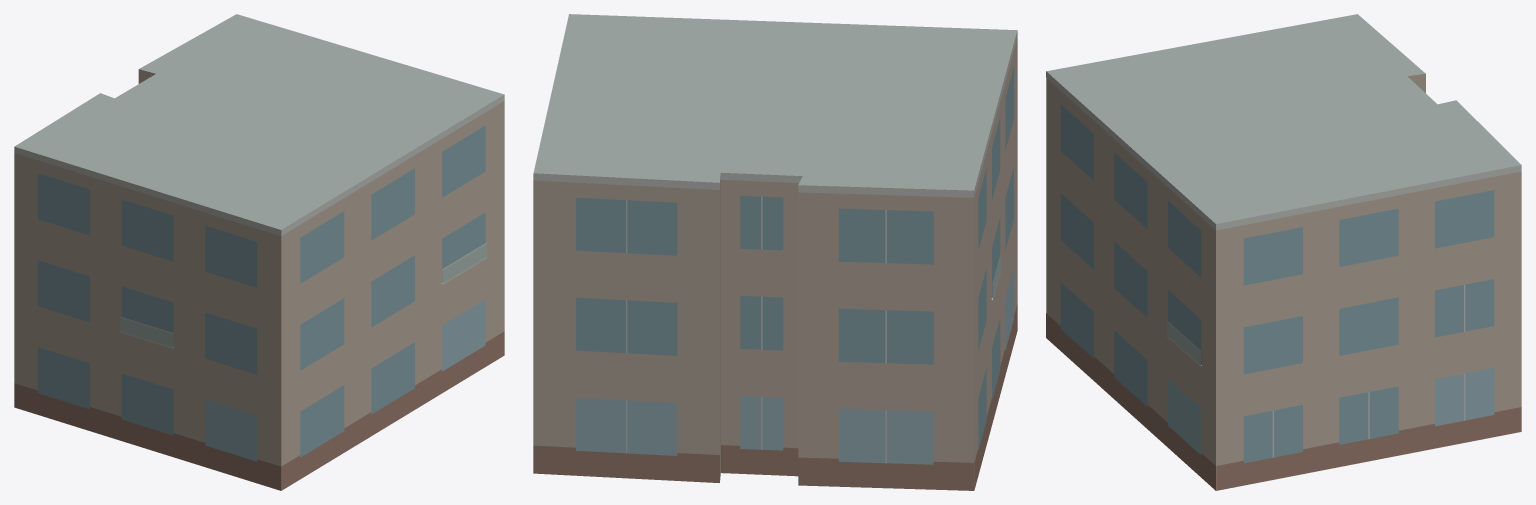
Rendered from survey-upis-32991577.glb.
3 renders of one model, left to right at view 1: azimuth 30°, elevation 25°; view 2: azimuth 150°, elevation 25°; view 3: azimuth 270°, elevation 25°, orthographic. The views are drawn at different scales.
Visible parts, largest first — view 1: survey-upis-32991577.tmp; view 2: survey-upis-32991577.tmp; view 3: survey-upis-32991577.tmp.
Part boxes in pixels (x1=…): survey-upis-32991577.tmp: x1=14, y1=14, x2=504, y2=490; survey-upis-32991577.tmp: x1=533, y1=14, x2=1017, y2=490; survey-upis-32991577.tmp: x1=1046, y1=14, x2=1521, y2=490.
Bounding box in the file's own units: 17.25 × 10.2 × 16.49.
